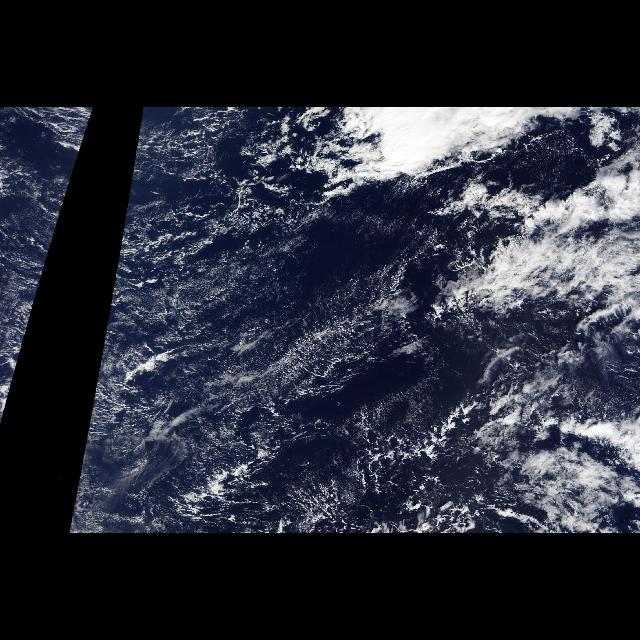Fish: (166, 216, 636, 530)
Gravel: (124, 107, 308, 261), (342, 409, 498, 528), (21, 108, 98, 218)
Sugar: (70, 218, 444, 526), (40, 218, 60, 282)
